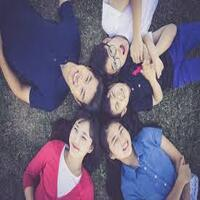person: (49, 105, 106, 168), (42, 49, 104, 106), (98, 116, 147, 173), (100, 28, 143, 85), (95, 75, 140, 119)
